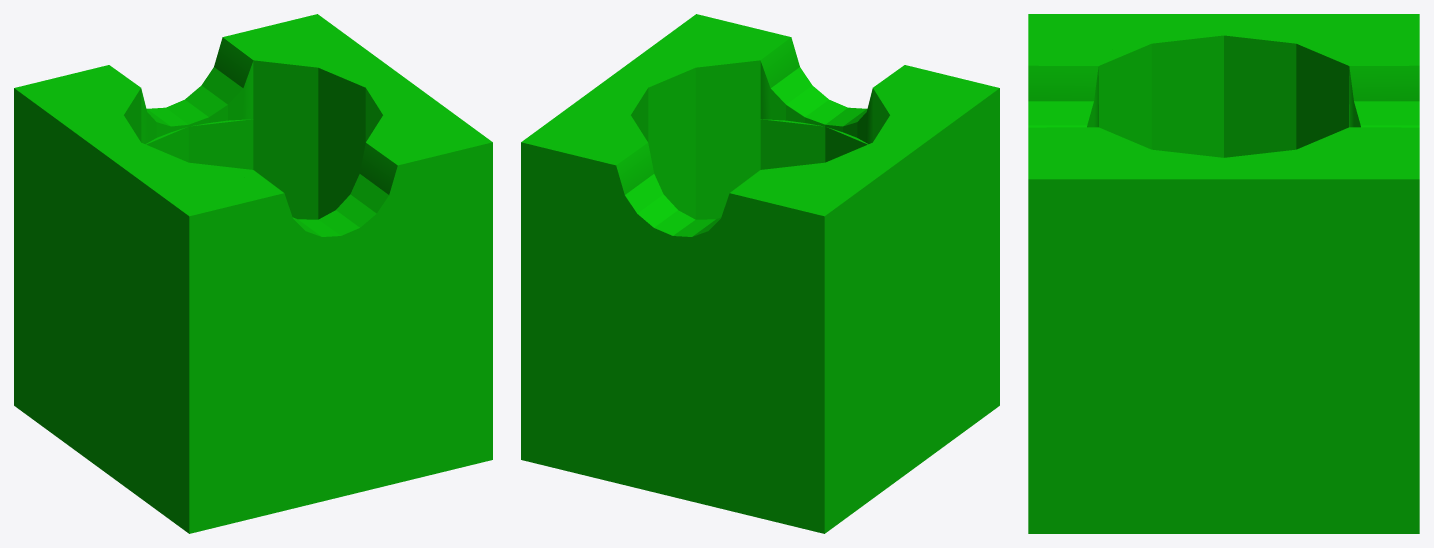
File: UCXKugelbahn.25.fbx
The picture shows the model from 3 angles, left to right: view 1: azimuth 30°, elevation 25°; view 2: azimuth 150°, elevation 25°; view 3: azimuth 270°, elevation 25°; orthographic projection. The views are drawn at different scales.
Visible parts, largest first — view 1: UCX_Kugelbahn.25_low; view 2: UCX_Kugelbahn.25_low; view 3: UCX_Kugelbahn.25_low.
Part boxes in pixels (x1,y1,x2,y2): UCX_Kugelbahn.25_low: [14, 14, 492, 533]; UCX_Kugelbahn.25_low: [521, 14, 999, 533]; UCX_Kugelbahn.25_low: [1028, 14, 1419, 533].
Size of the model in its own units: 0.05 by 0.05 by 0.05.
